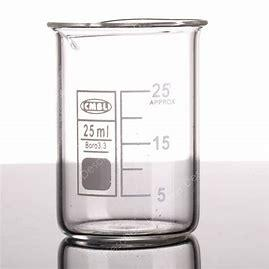Beaker: (40, 13, 208, 248)
